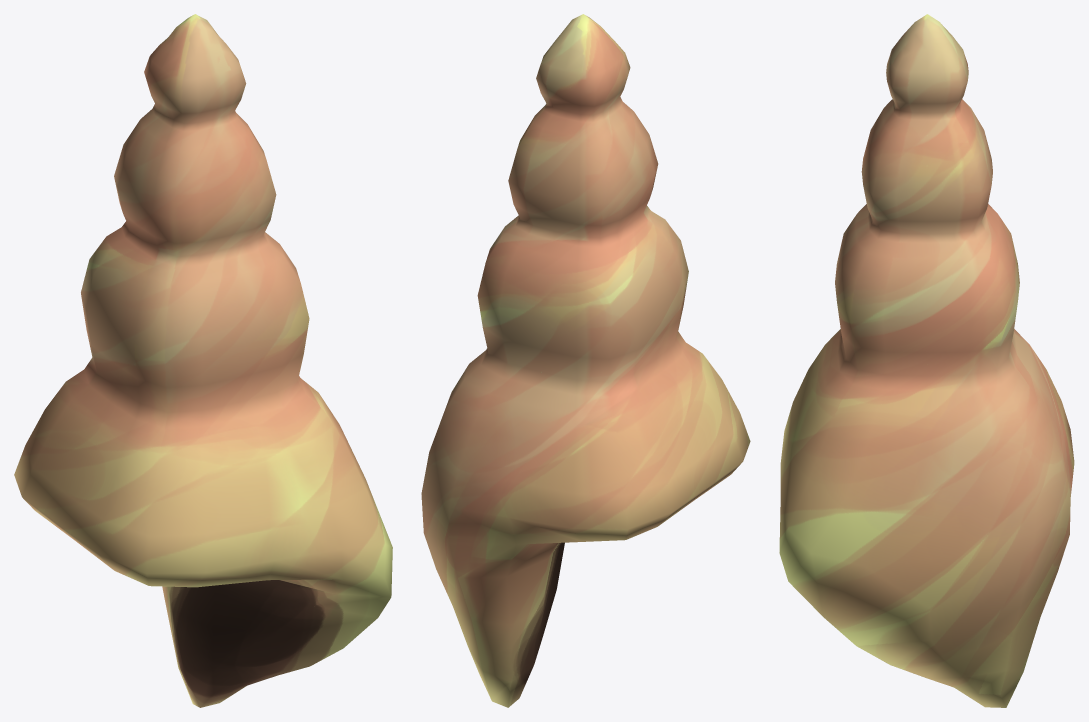
Rendered from Shell01.fbx.
3 views of the same model, side by side, from view 1: azimuth 30°, elevation 25°; view 2: azimuth 150°, elevation 25°; view 3: azimuth 270°, elevation 25° (orthographic). The views are drawn at different scales.
Visible parts, largest first — view 1: Shell01; view 2: Shell01; view 3: Shell01.
Boxes of the visible parts, <box> form: Shell01: <box>14,14,392,707</box>; Shell01: <box>421,14,750,707</box>; Shell01: <box>779,14,1074,707</box>.
Size of the model in its own units: 331 by 839 by 334.
Materials: 1 (1 with a texture image).
